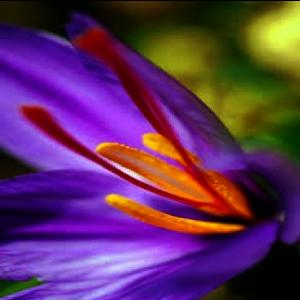Saffron: (0, 13, 300, 300)
